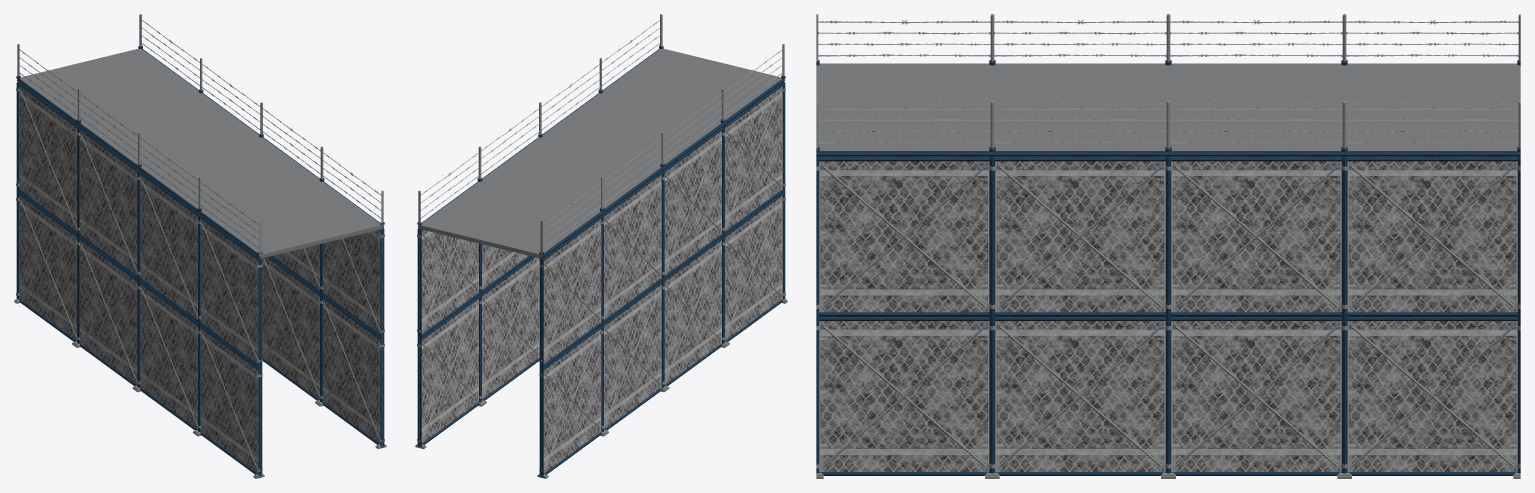
The model's file is straight.glb.
3 views of the same model, side by side, from view 1: azimuth 30°, elevation 25°; view 2: azimuth 150°, elevation 25°; view 3: azimuth 270°, elevation 25° (orthographic). The views are drawn at different scales.
Visible parts, largest first — view 1: straight-lod0-base0, straight-lod0-floor0, straight-lod0-roof0; view 2: straight-lod0-base0, straight-lod0-floor0, straight-lod0-roof0; view 3: straight-lod0-floor0, straight-lod0-base0, straight-lod0-roof0.
Boxes of the visible parts, left/top/right/bottom form: straight-lod0-base0: left=14, top=192, right=386, bottom=478; straight-lod0-floor0: left=16, top=82, right=384, bottom=368; straight-lod0-roof0: left=16, top=14, right=384, bottom=258; straight-lod0-base0: left=415, top=192, right=787, bottom=478; straight-lod0-floor0: left=417, top=82, right=785, bottom=368; straight-lod0-roof0: left=417, top=14, right=785, bottom=258; straight-lod0-floor0: left=816, top=156, right=1520, bottom=317; straight-lod0-base0: left=816, top=316, right=1520, bottom=478; straight-lod0-roof0: left=816, top=14, right=1520, bottom=156.
Size of what is drawn, in the model's own units: 22.5 by 42.2 by 72.
Materials: 6 (6 with a texture image).
